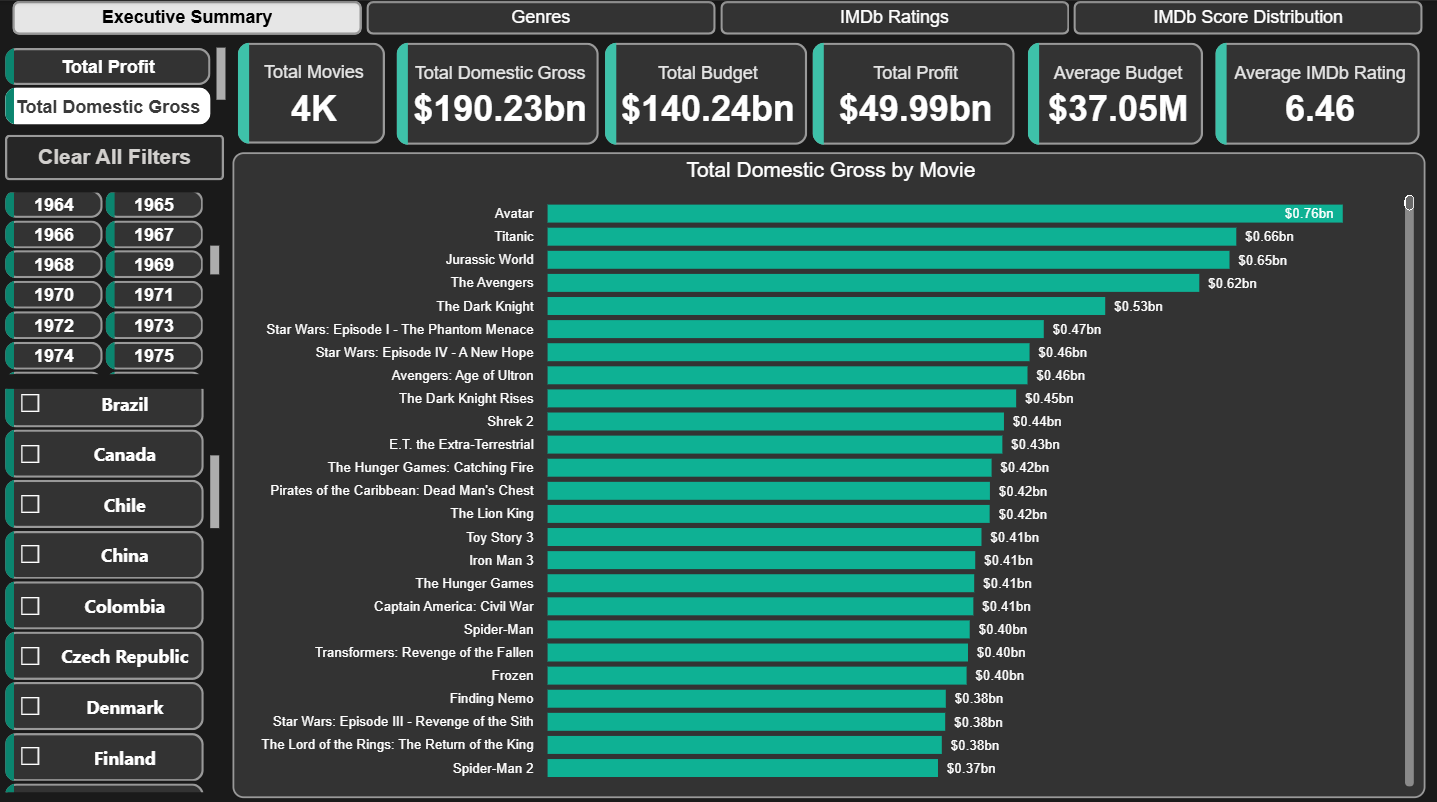

This screenshot's page, from the dashboard's own definition file:
{"tool":"powerbi","page":{"name":"Executive Summary","canvas":[1280,720],"ordinal":0},"visuals":[{"type":"pageNavigator","box":[11,0,1258.3,30.2],"z":0},{"type":"advancedSlicerVisual","fields":{"Values":["Parameter.Parameter"]},"box":[0,36.8,206.1,78.5],"z":500},{"type":"actionButton","box":[4.9,119,195.1,40.5],"z":1000},{"type":"advancedSlicerVisual","fields":{"Values":["cleaned_movies.title_year"]},"box":[0,165.6,200,171.8],"z":4000},{"type":"listSlicer","fields":{"Values":["cleaned_movies.country"]},"box":[0,341.1,200,374.2],"z":5000},{"type":"cardVisual","fields":{"Data":["_Measures.Total Movies"]},"box":[207.4,31.9,141.1,100.6],"z":8000},{"type":"cardVisual","fields":{"Data":["_Measures.Total Domestic Gross","_Measures.Total Budget","_Measures.Total Profit"]},"box":[348.5,31.9,562,101.8],"z":8500},{"type":"cardVisual","fields":{"Data":["_Measures.Average Budget"]},"box":[910.4,31.9,166.9,101.8],"z":9000},{"type":"cardVisual","fields":{"Data":["_Measures.Average IMDB Rating"]},"box":[1077.3,31.9,192.6,101.8],"z":9250},{"type":"clusteredBarChart","fields":{"Y":["_Measures.Total Profit"],"Category":["cleaned_movies.movie_title"]},"box":[207.4,135,1062.6,575.5],"z":9500}]}

Visuals, with their boxes in screenshot pixels (x1, y1, x2, y2), scaled from the page's 1280x720 canvas onto the 1437x802 screenshot:
pageNavigator: <region>12, 0, 1425, 34</region>
advancedSlicerVisual - Parameter.Parameter: <region>0, 41, 231, 128</region>
actionButton: <region>6, 133, 225, 178</region>
advancedSlicerVisual - cleaned_movies.title_year: <region>0, 184, 225, 376</region>
listSlicer - cleaned_movies.country: <region>0, 380, 225, 797</region>
cardVisual - _Measures.Total Movies: <region>233, 36, 391, 148</region>
cardVisual - _Measures.Total Domestic Gross x _Measures.Total Budget: <region>391, 36, 1022, 149</region>
cardVisual - _Measures.Average Budget: <region>1022, 36, 1209, 149</region>
cardVisual - _Measures.Average IMDB Rating: <region>1209, 36, 1426, 149</region>
clusteredBarChart - _Measures.Total Profit x cleaned_movies.movie_title: <region>233, 150, 1426, 791</region>
